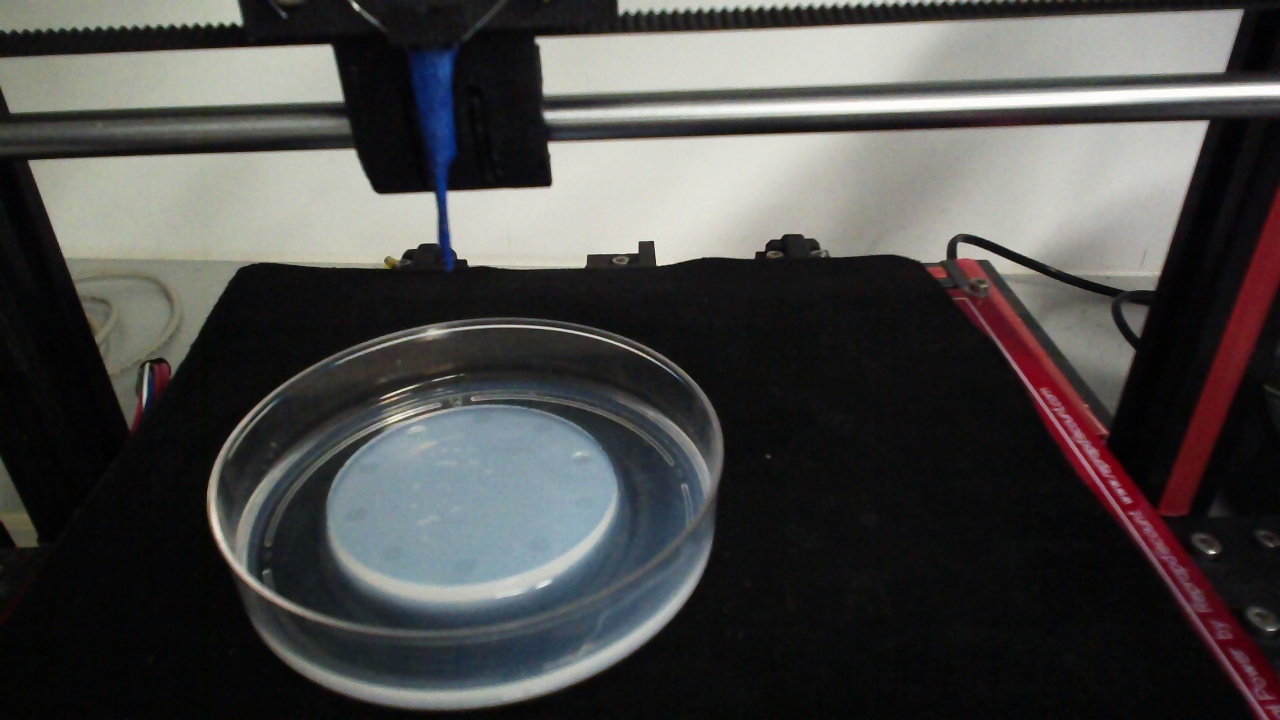groove: (342, 505, 371, 524), (379, 542, 405, 563), (451, 557, 479, 576), (528, 535, 553, 555), (470, 407, 496, 426), (404, 424, 429, 442), (572, 493, 595, 512), (569, 450, 592, 467), (357, 458, 378, 476), (531, 419, 553, 436)
needle: (416, 53, 452, 275)
